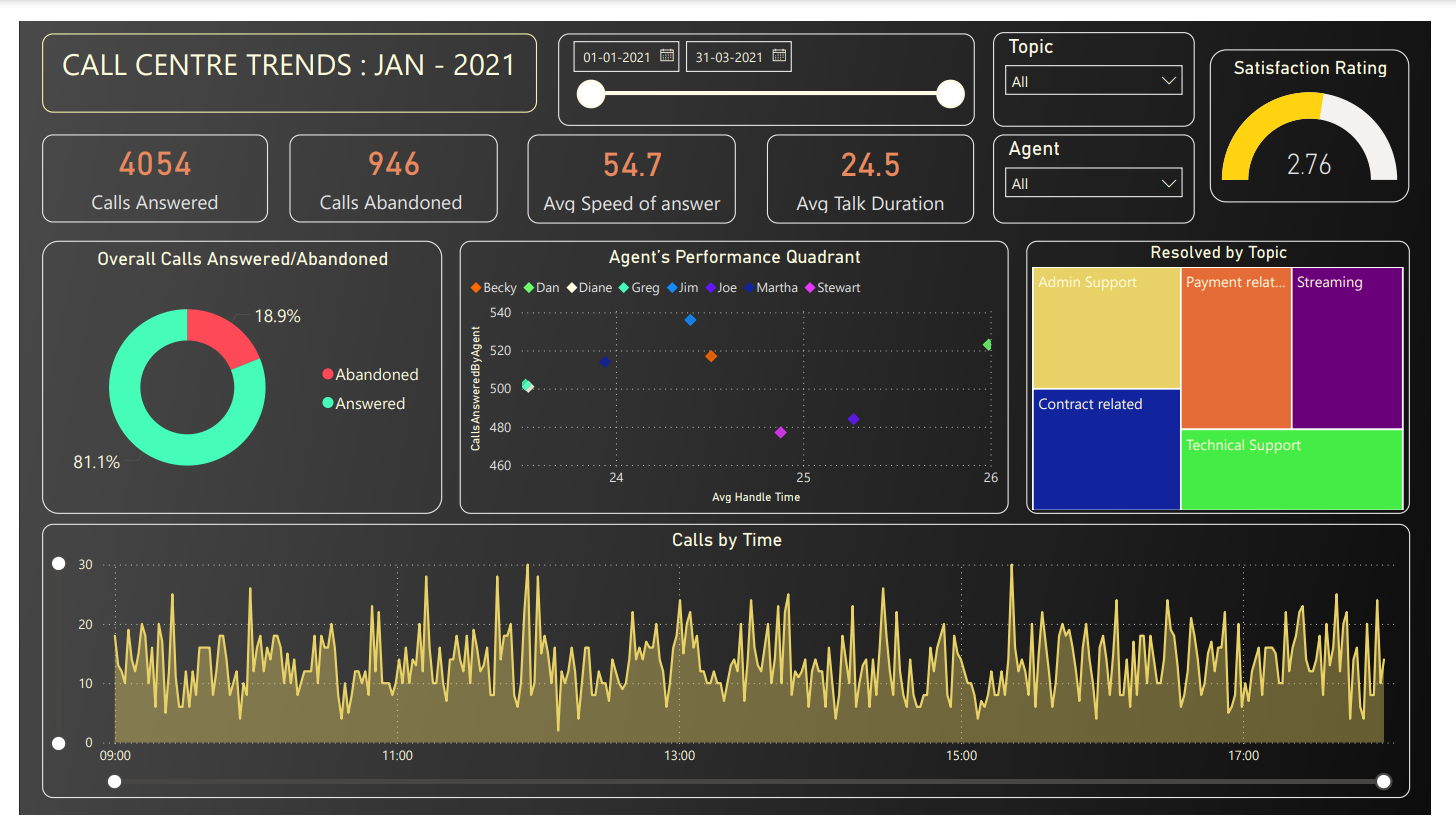

What the dashboard file says about the page in this screenshot:
{"tool":"powerbi","page":{"name":"Page 1","canvas":[1280,720],"ordinal":0},"visuals":[{"type":"textbox","box":[20.5,10.9,448.8,72.4],"z":0},{"type":"card","title":"Overall Satisfaction","fields":{"Values":["Avg(Sheet1.AvgTalkDuration)"]},"box":[678,102.5,188.2,80.8],"z":1000},{"type":"card","title":"Overall Satisfaction","fields":{"Values":["Avg(Sheet1.Speed of answer in seconds)"]},"box":[460.9,102.5,189.4,80.8],"z":2000},{"type":"card","title":"Overall Satisfaction","fields":{"Values":["Sheet1.TotalCallsAbandoned"]},"box":[244.9,102.5,189.4,79.6],"z":3000},{"type":"card","title":"Overall Satisfaction","fields":{"Values":["Sheet1.TotalCallsAnswered"]},"box":[20.5,102.5,205.1,79.6],"z":4000},{"type":"donutChart","title":"Overall Calls Answered/Abandoned","fields":{"Y":["Sheet1.TotalCallsAbandoned","Sheet1.TotalCallsAnswered"]},"box":[20,198.8,362.5,247.5],"z":5000},{"type":"lineChart","title":"Calls by Time","fields":{"Category":["Sheet1.Time"],"Y":["CountNonNull(Sheet1.Call Id)"]},"box":[20,456.2,1241.2,248.8],"z":6000},{"type":"scatterChart","title":"Agent’s Performance Quadrant","fields":{"X":["Sheet1.AverageHandleTime"],"Y":["Sheet1.CallsAnsweredByAgent"],"Series":["Sheet1.Agent"]},"box":[398.8,198.8,497.5,247.5],"z":7000},{"type":"treemap","fields":{"Values":["Count(Sheet1.Resolved)"],"Group":["Sheet1.Topic"]},"box":[913.8,198.8,347.5,247.5],"z":8000},{"type":"gauge","title":"Satisfaction Rating","fields":{"Y":["Avg(Sheet1.Satisfaction rating)"]},"box":[1079.8,25.3,181,138.7],"z":9000},{"type":"slicer","fields":{"Values":["Sheet1.Agent"]},"box":[883.1,102.5,183.4,80.8],"z":10000},{"type":"slicer","fields":{"Values":["Sheet1.Topic"]},"box":[883.1,9.7,183.4,85.7],"z":11000},{"type":"slicer","fields":{"Values":["Sheet1.Date"]},"box":[488.6,10.9,377.6,84.5],"z":11001}]}

Visuals, with their boxes in screenshot pixels (x1, y1, x2, y2), scaled from the page's 1280x720 canvas onto the 1456x833 screenshot:
textbox: [x1=23, y1=13, x2=534, y2=96]
"Overall Satisfaction" card: [x1=771, y1=119, x2=985, y2=212]
"Overall Satisfaction" card: [x1=524, y1=119, x2=740, y2=212]
"Overall Satisfaction" card: [x1=279, y1=119, x2=494, y2=211]
"Overall Satisfaction" card: [x1=23, y1=119, x2=257, y2=211]
"Overall Calls Answered/Abandoned" donutChart: [x1=23, y1=230, x2=435, y2=516]
"Calls by Time" lineChart: [x1=23, y1=528, x2=1435, y2=816]
"Agent’s Performance Quadrant" scatterChart: [x1=454, y1=230, x2=1020, y2=516]
treemap - Count(Sheet1.Resolved) x Sheet1.Topic: [x1=1039, y1=230, x2=1435, y2=516]
"Satisfaction Rating" gauge: [x1=1228, y1=29, x2=1434, y2=190]
slicer - Sheet1.Agent: [x1=1005, y1=119, x2=1213, y2=212]
slicer - Sheet1.Topic: [x1=1005, y1=11, x2=1213, y2=110]
slicer - Sheet1.Date: [x1=556, y1=13, x2=985, y2=110]
